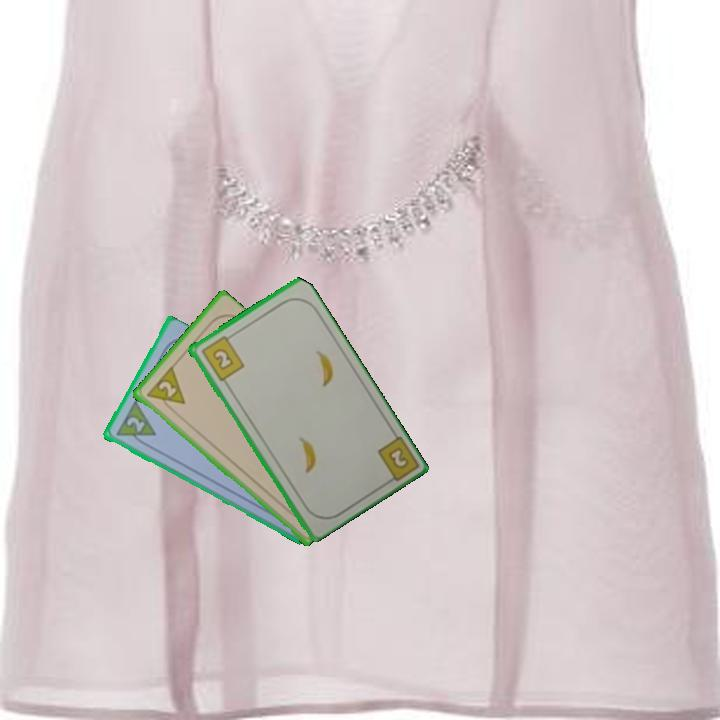2b: (197, 331, 247, 384), (373, 432, 420, 488)
2p: (112, 399, 158, 450), (143, 364, 188, 416)
